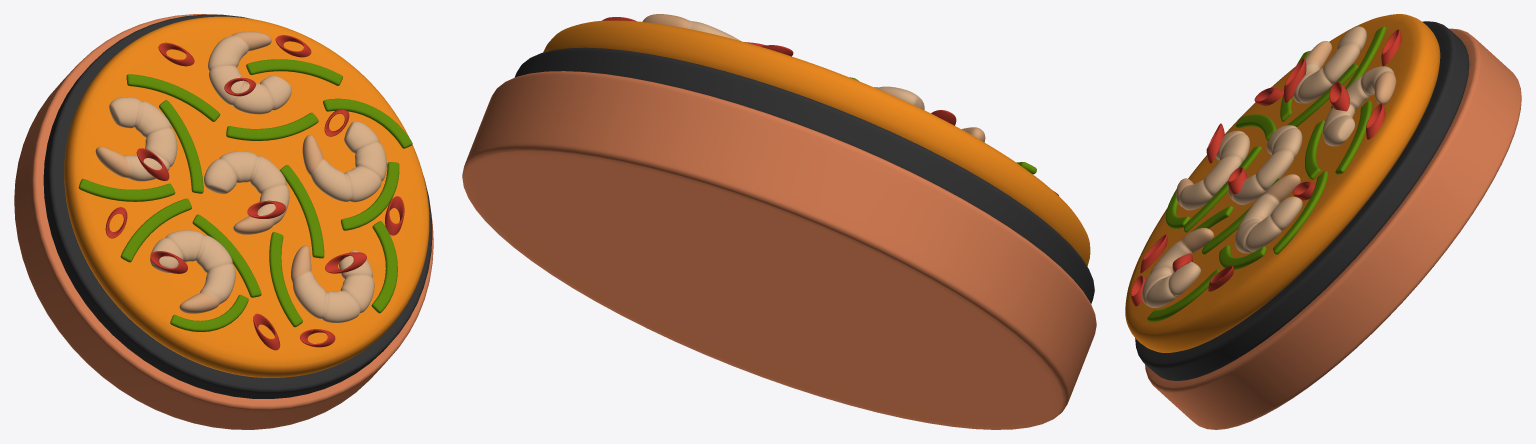
Rendered from haemul pajeon.glb.
The picture shows the model from 3 angles, left to right: view 1: azimuth 30°, elevation 25°; view 2: azimuth 150°, elevation 25°; view 3: azimuth 270°, elevation 25°; orthographic projection. The views are drawn at different scales.
Visible parts, largest first — view 1: Circle.006, Cylinder.126, Cylinder.139, Circle.011, Circle.009, Circle.010, Circle.008, Circle.007, Circle.005, Cube.089, Cube.091, Cube.090 (+18 smaller); view 2: Cylinder.126, Circle.006, Cylinder.139, Circle.009, Circle.008; view 3: Cylinder.126, Circle.006, Cylinder.139, Circle.011, Circle.010, Circle.008, Circle.009, Circle.007, Circle.005, Cube.095, Cube.094, Cube.087 (+15 smaller).
Boxes of the visible parts, x1=… form: Circle.006: x1=64, y1=16, x2=429, y2=377; Cylinder.126: x1=14, y1=14, x2=433, y2=429; Cylinder.139: x1=43, y1=14, x2=432, y2=398; Circle.011: x1=302, y1=121, x2=386, y2=202; Circle.009: x1=208, y1=31, x2=291, y2=114; Circle.010: x1=291, y1=245, x2=374, y2=322; Circle.008: x1=95, y1=97, x2=177, y2=181; Circle.007: x1=150, y1=230, x2=235, y2=313; Circle.005: x1=204, y1=151, x2=289, y2=234; Cube.089: x1=159, y1=100, x2=203, y2=193; Cube.091: x1=126, y1=74, x2=220, y2=121; Cube.090: x1=269, y1=232, x2=302, y2=327; Cylinder.126: x1=462, y1=71, x2=1096, y2=429; Circle.006: x1=543, y1=20, x2=1090, y2=266; Cylinder.139: x1=514, y1=47, x2=1094, y2=303; Circle.009: x1=642, y1=14, x2=740, y2=40; Circle.008: x1=874, y1=86, x2=985, y2=142; Cylinder.126: x1=1145, y1=28, x2=1521, y2=429; Circle.006: x1=1125, y1=14, x2=1440, y2=352; Cylinder.139: x1=1135, y1=21, x2=1469, y2=380; Circle.011: x1=1235, y1=174, x2=1302, y2=253; Circle.010: x1=1142, y1=228, x2=1214, y2=307; Circle.008: x1=1293, y1=26, x2=1366, y2=103; Circle.009: x1=1322, y1=66, x2=1396, y2=146; Circle.007: x1=1176, y1=130, x2=1249, y2=210; Circle.005: x1=1228, y1=125, x2=1302, y2=204; Cube.095: x1=1273, y1=171, x2=1328, y2=254; Cube.094: x1=1335, y1=100, x2=1372, y2=174; Cube.087: x1=1184, y1=146, x2=1262, y2=232.
Size of the model in its own units: 2.77 by 2.32 by 2.32.
